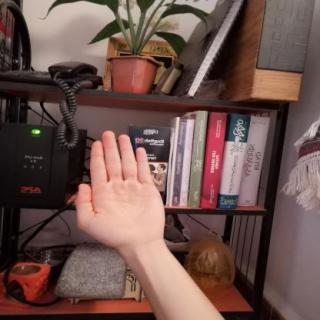SEEN: (66, 123, 172, 254)
